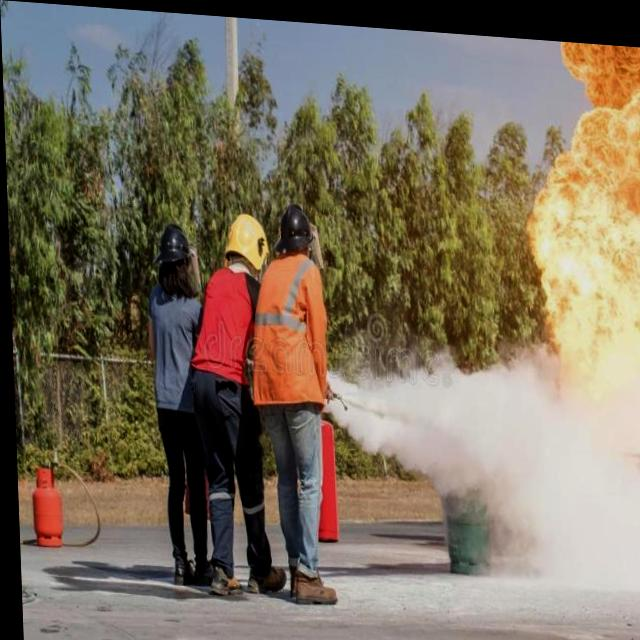FireExtinguisher: (297, 368, 349, 542)
